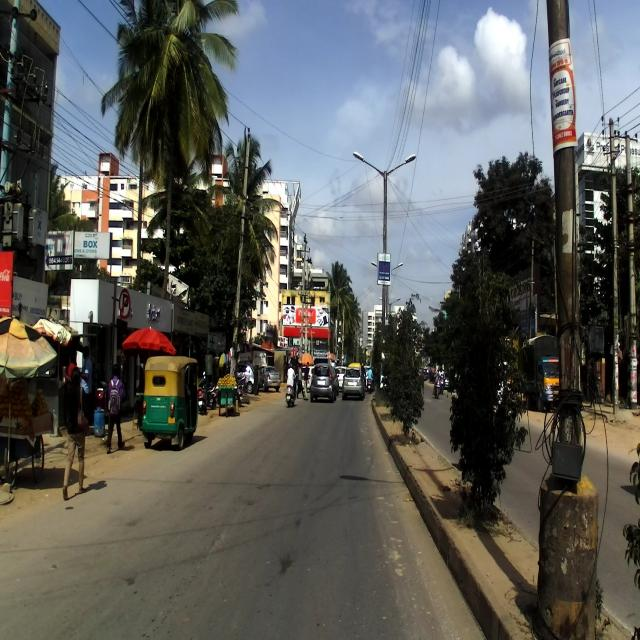autorickshaw: (139, 354, 201, 450)
